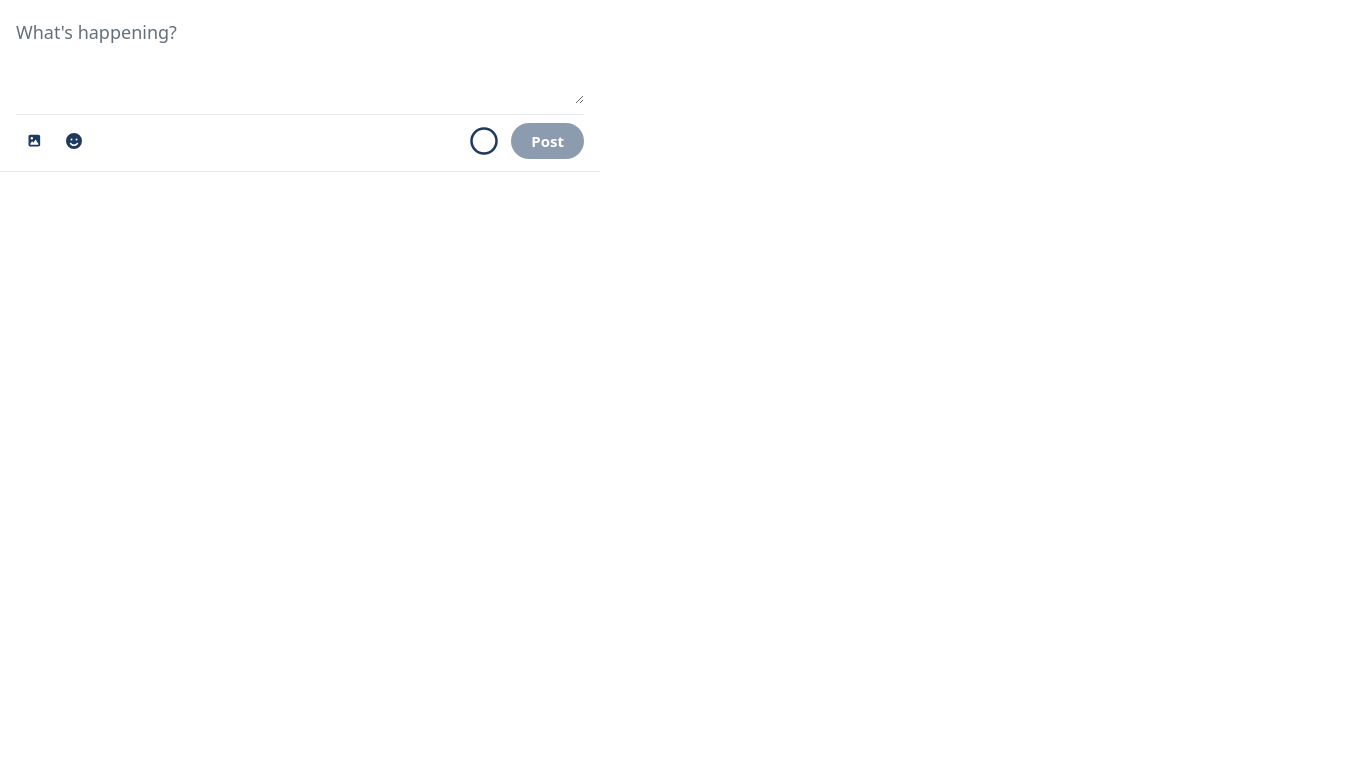
Composer — emoji picker (story 12a) › inserts at the caret, keeps focus, and counts toward the limit
Type "Shelter open" into the text box named "Post text" at (300, 58), box [16,12,584,104]
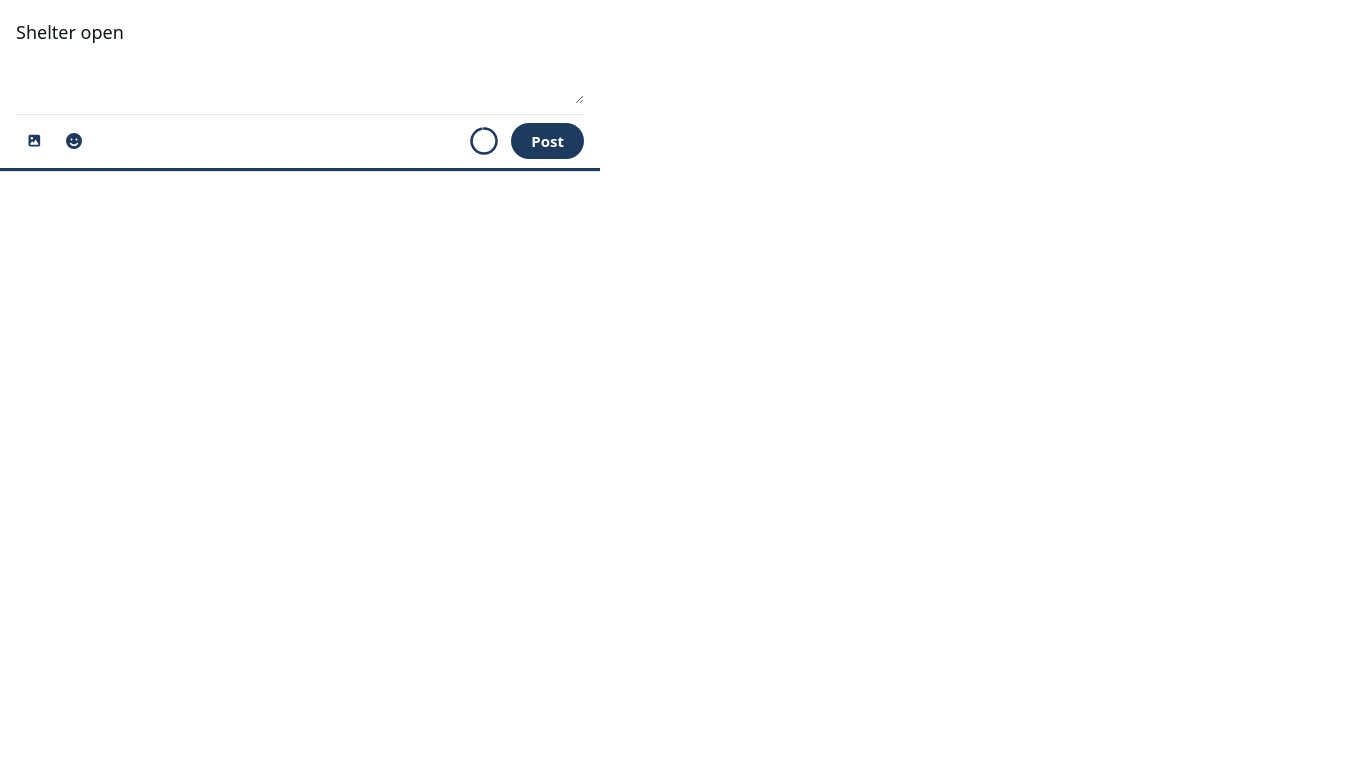
Click the button named "Add emoji" at (74, 141), box [56,123,92,159]
(page scrolled)
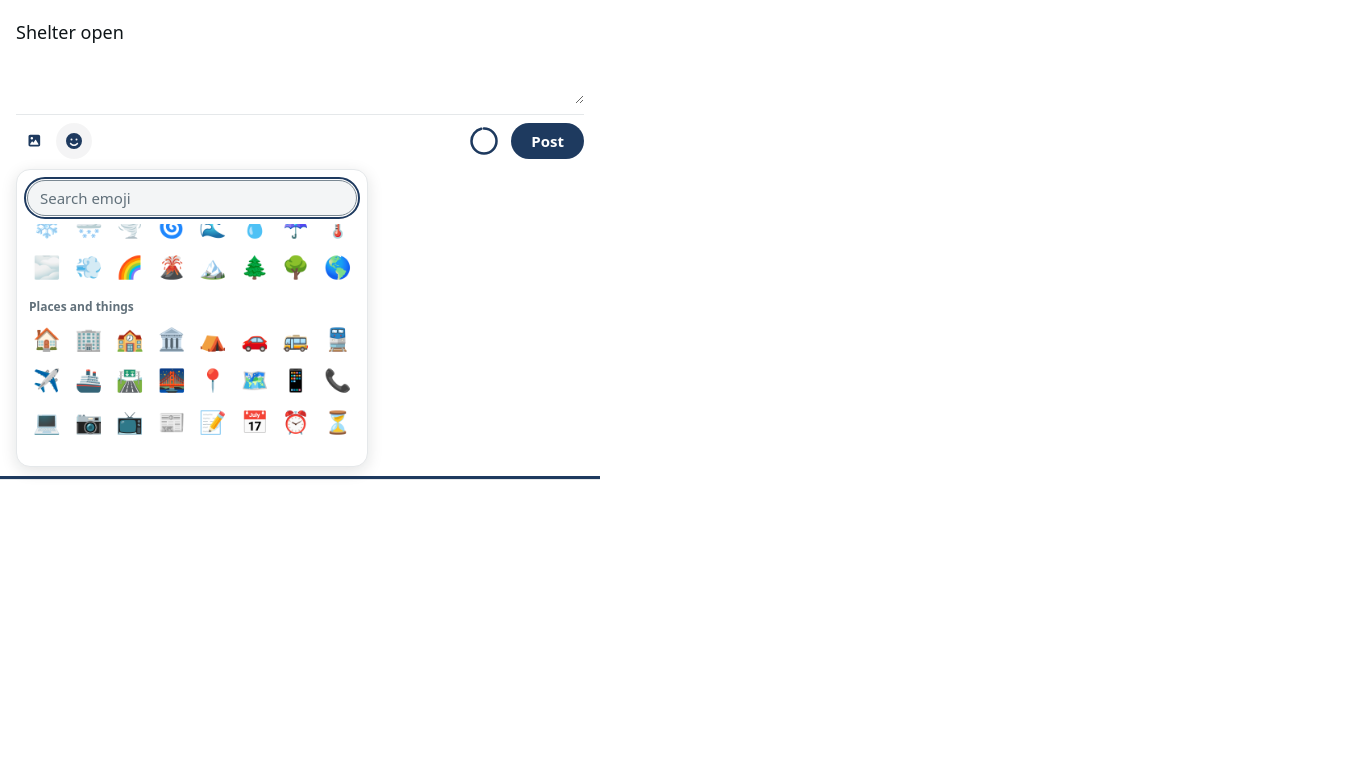
Click the option named "house" at (47, 339), box [33,327,60,352]
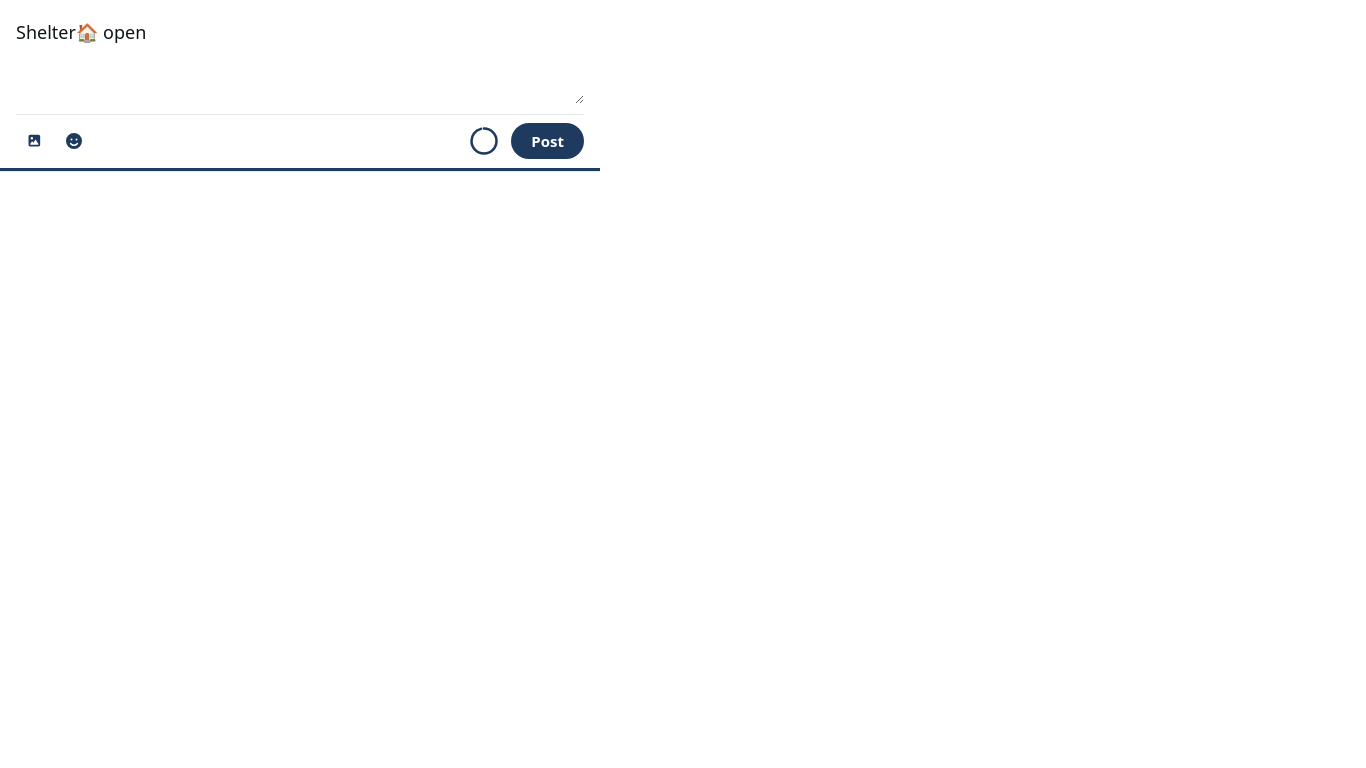
Check: the text box named "Post text" holds "Shelter🏠 open", box [16,12,584,104]
// Typing continues at the caret, after the emoji.
Type keys "!"
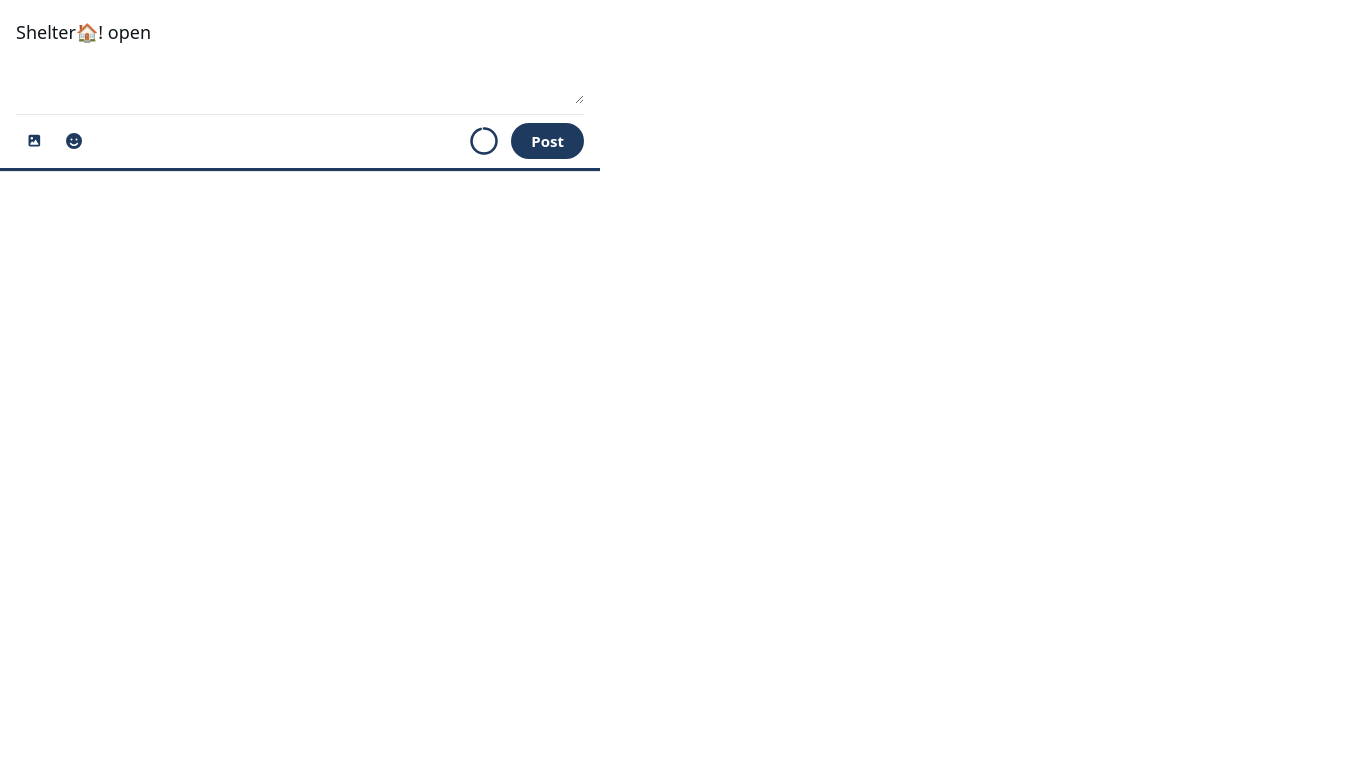
Check: the text box named "Post text" holds "Shelter🏠! open", box [16,12,584,104]
